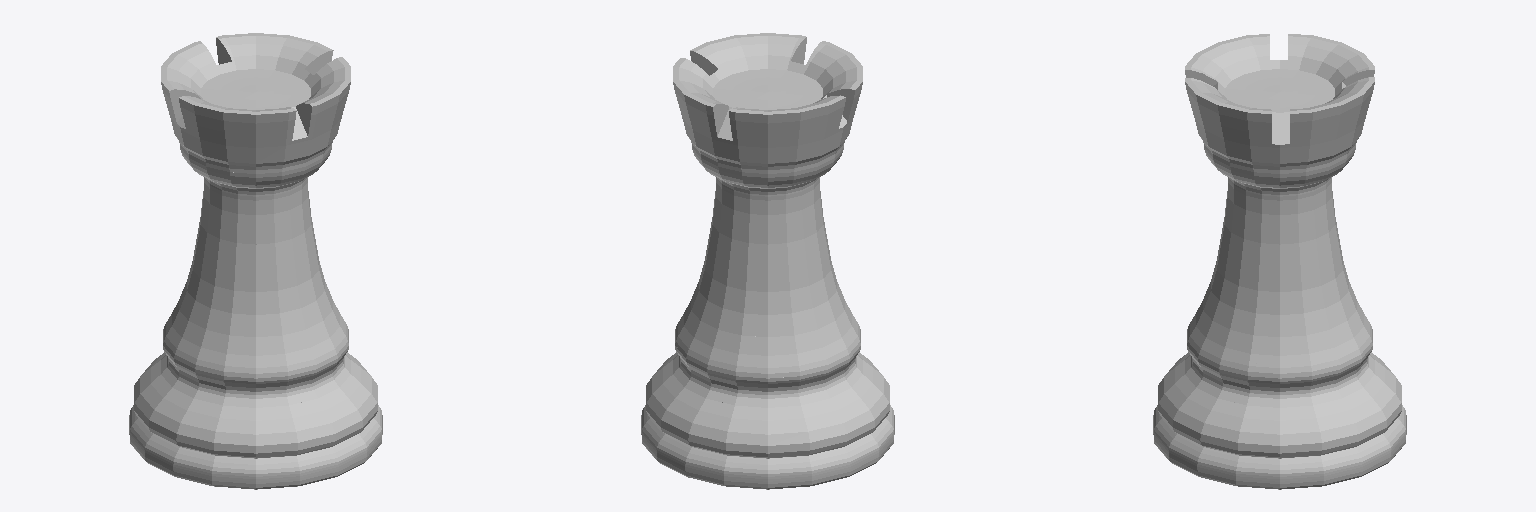
Rendered from rook_b_2.obj.
3 renders of one model, left to right at view 1: azimuth 30°, elevation 25°; view 2: azimuth 150°, elevation 25°; view 3: azimuth 270°, elevation 25°, orthographic.
Parts seen in each view (by area): view 1: rook_b_2; view 2: rook_b_2; view 3: rook_b_2.
Part boxes in pixels (bbox=[...]): rook_b_2: bbox=[129, 33, 382, 489]; rook_b_2: bbox=[641, 33, 894, 489]; rook_b_2: bbox=[1153, 34, 1406, 489].
Bounding box in the file's own units: 3.32 × 5.2 × 3.27.